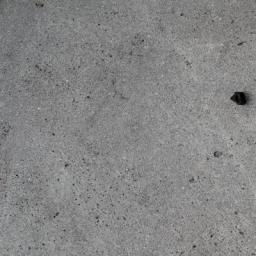FOD: (229, 86, 249, 110)
